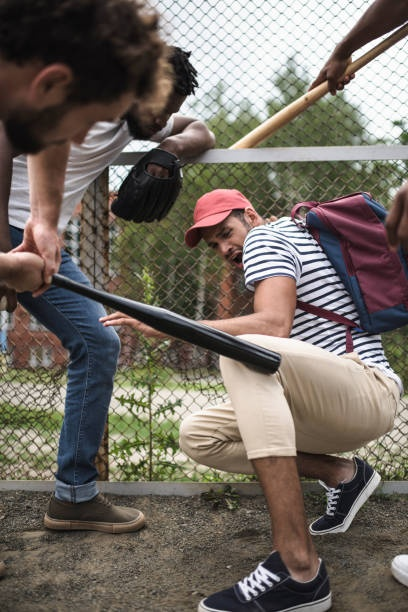bita: (46, 272, 276, 366)
